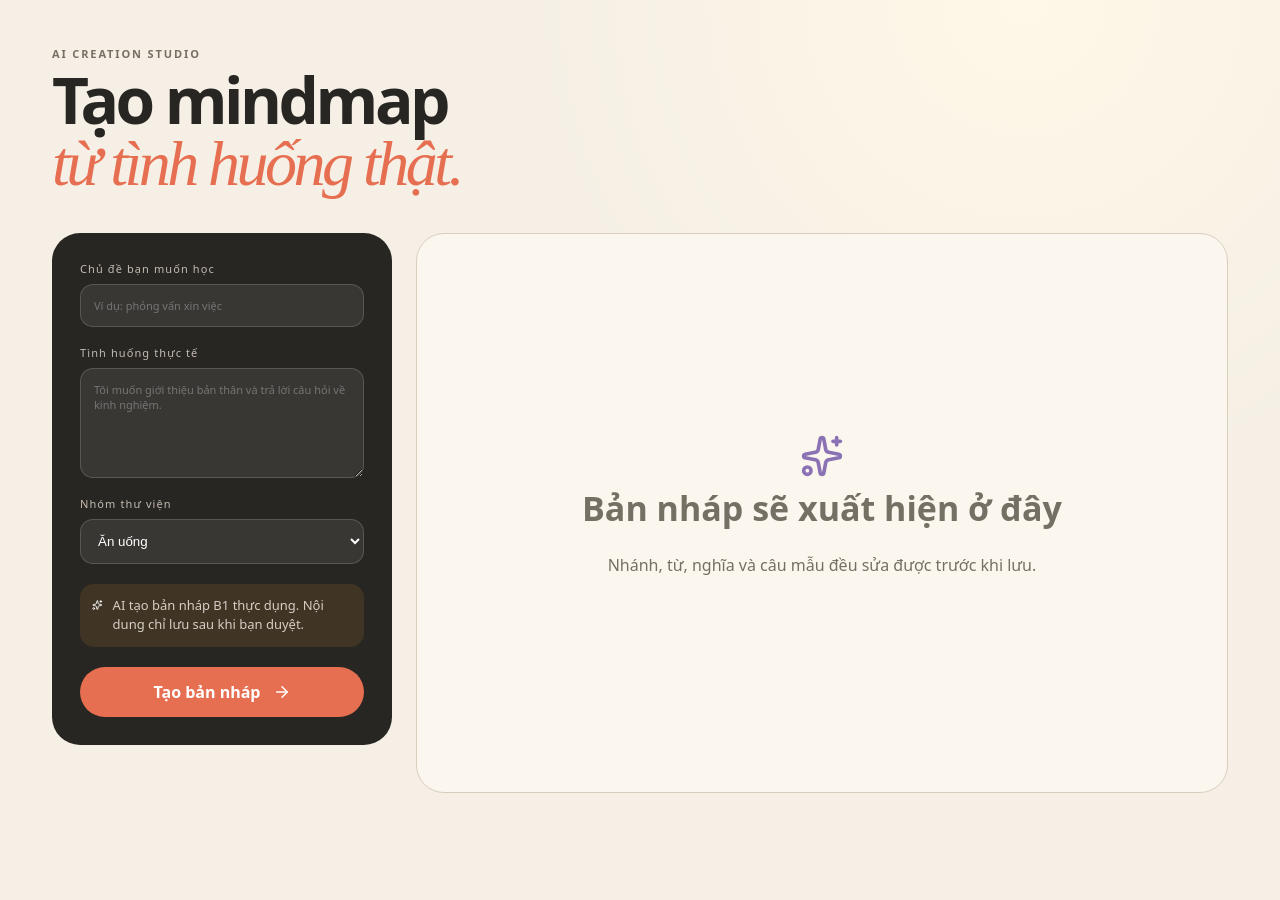
Scenario: CreateMindmapPage › explains why generation cannot start when topic is empty
The image size is (1280, 900).
Click the button "Tạo bản nháp": click(222, 692) [80,667,364,717]
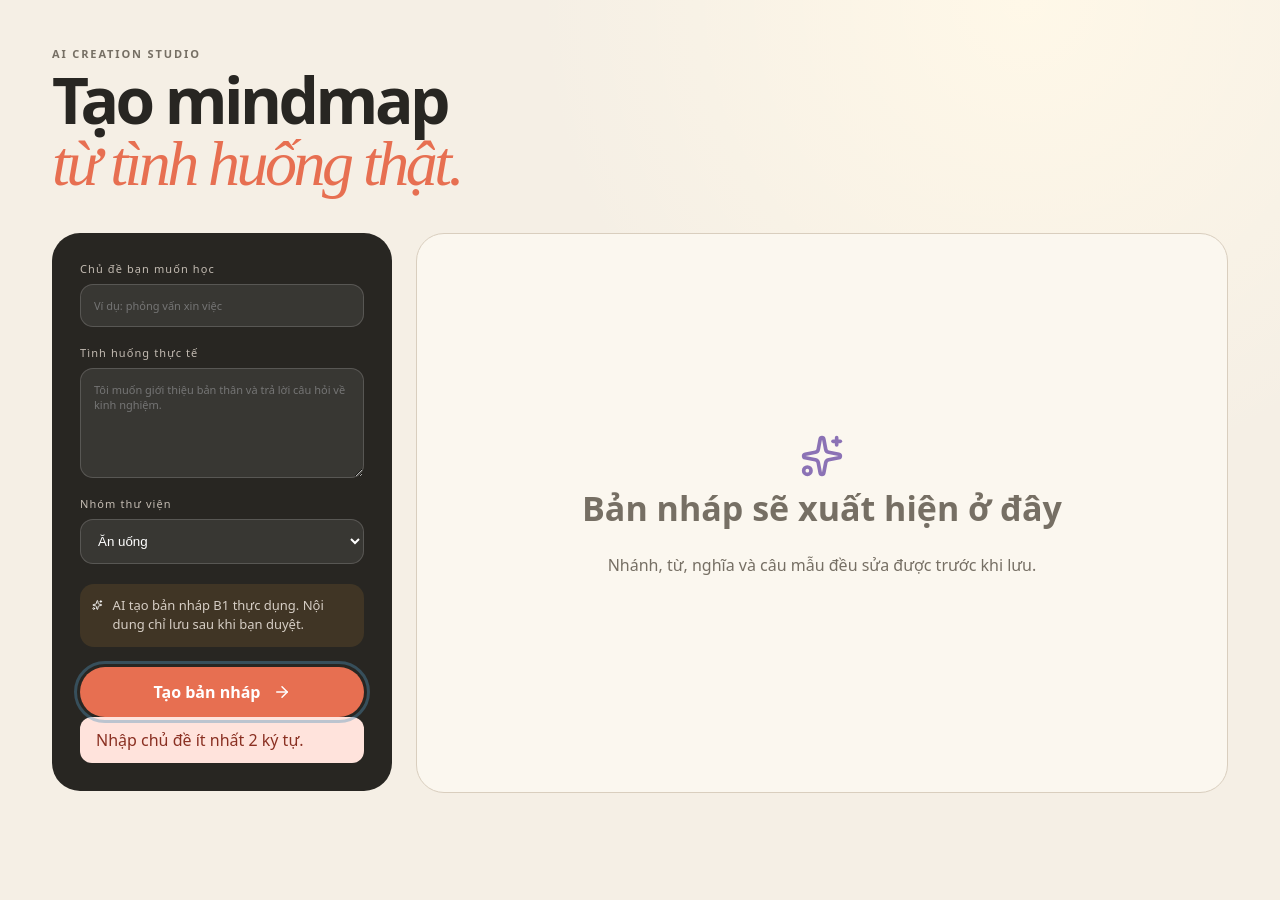
Check: the text "Nhập chủ đề ít nhất 2 ký tự." is shown, box [80,717,364,763]
